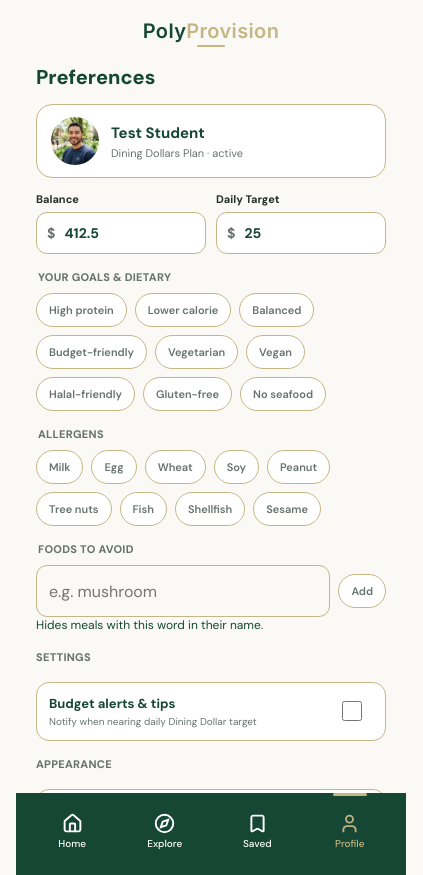
Test: ProfilePage allergens and avoided foods › saves the selected allergens and avoided foods
Click the button "Tree nuts" at (74, 509), box [36, 492, 112, 526]
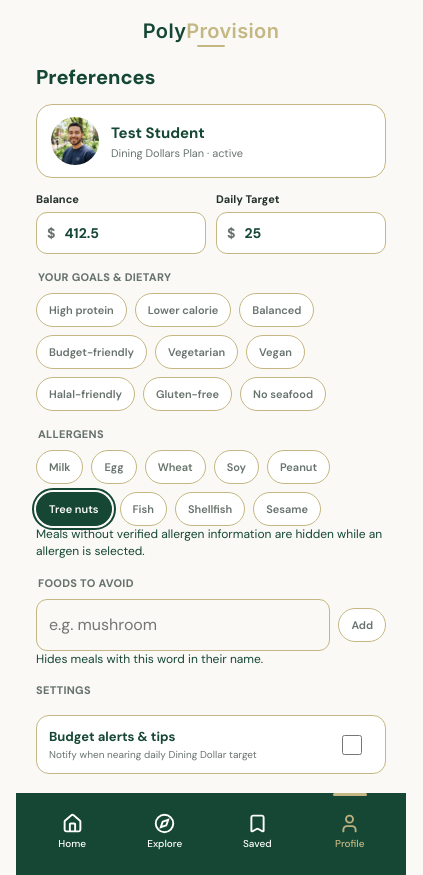
Click the button "Sesame" at (287, 509), box [253, 492, 321, 526]
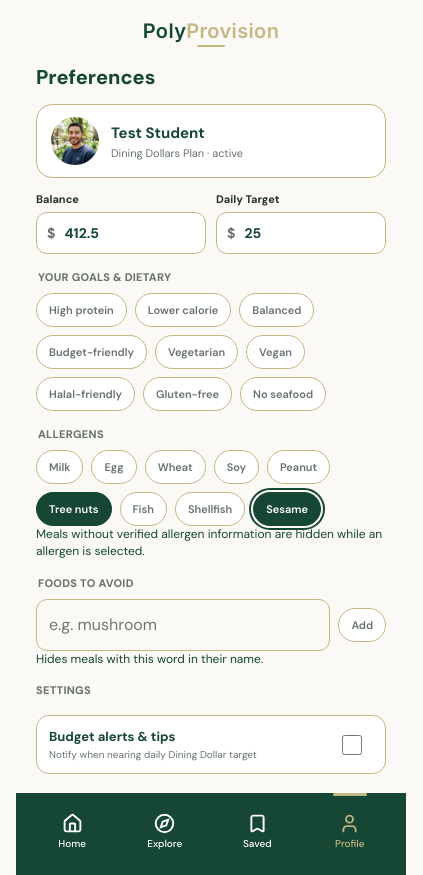
Click the button "Sesame" at (287, 509), box [253, 492, 321, 526]
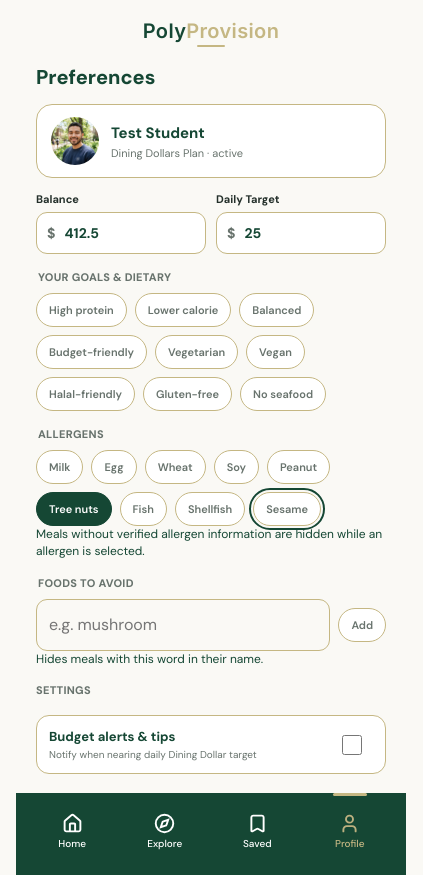
Type "  Mushroom " into the field named "Food to avoid" at (183, 625), box [36, 599, 330, 651]
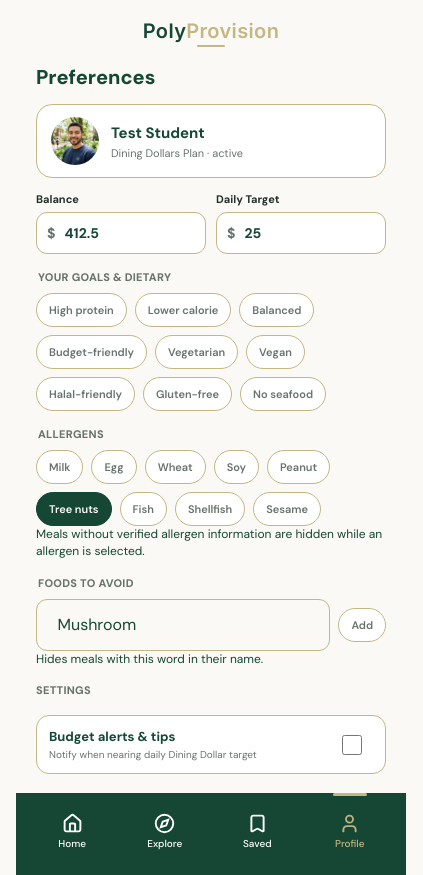
Click the button "Add" at (362, 625), box [338, 608, 386, 642]
(page scrolled)
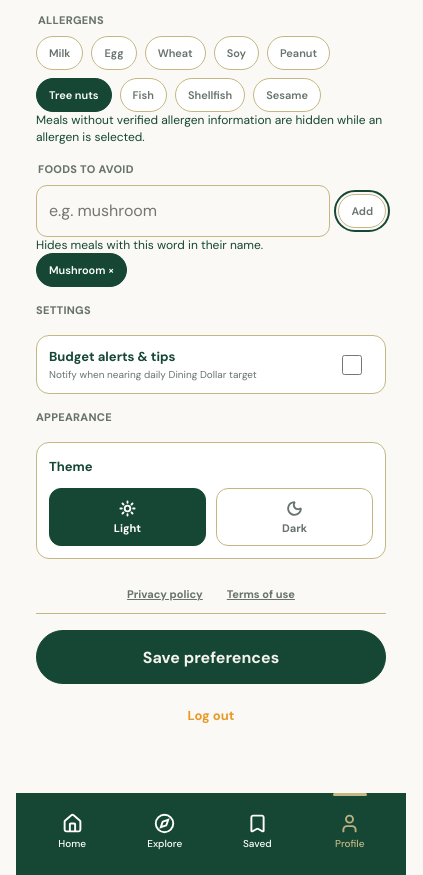
Click the button "Save preferences" at (211, 657), box [36, 630, 386, 684]
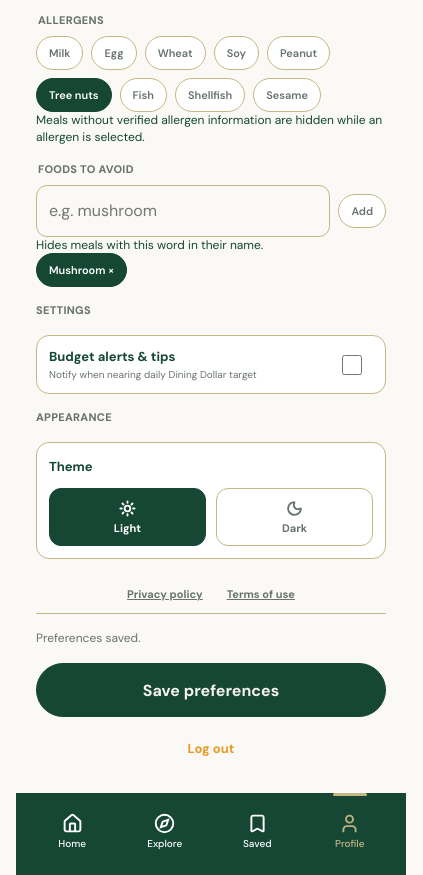
Expected: the text "Preferences saved." is shown, [36, 630, 140, 646]
